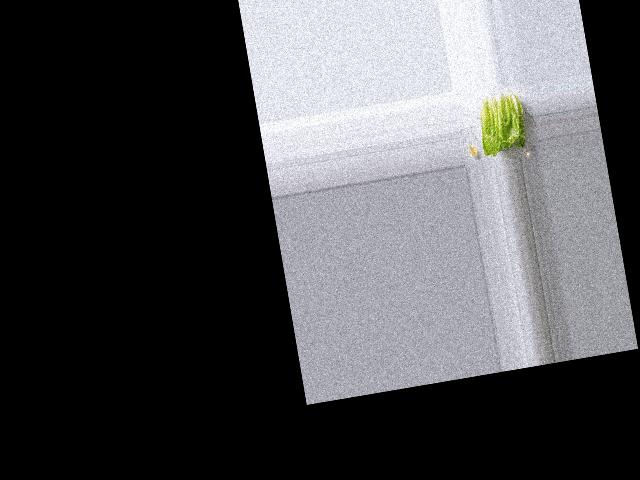lettuce: (472, 90, 531, 159)
